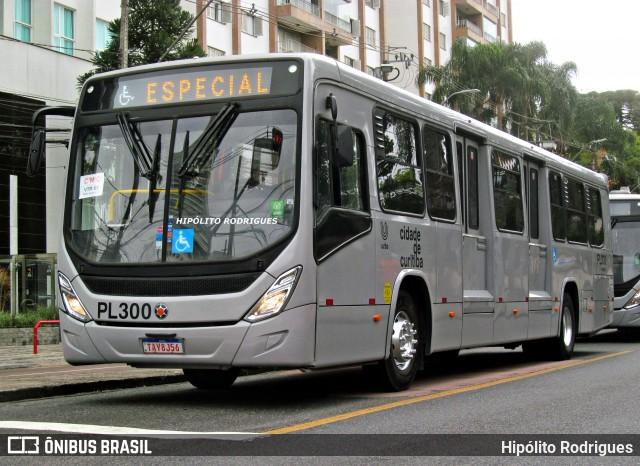ESPECIAL: (142, 68, 271, 108)
